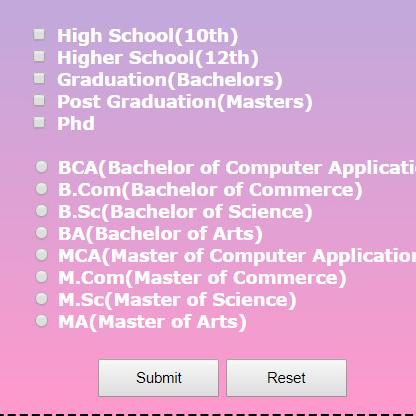button: (222, 358, 348, 402), (96, 358, 222, 399)
checkbox: (31, 92, 47, 109), (30, 115, 46, 132), (31, 49, 46, 65), (32, 27, 47, 41), (32, 70, 46, 85)
checkbox_with_label: (28, 89, 312, 113), (27, 69, 285, 92), (27, 46, 262, 69), (28, 24, 240, 47), (29, 112, 94, 134)
radio: (32, 290, 51, 307), (33, 158, 50, 176), (32, 224, 50, 241), (32, 313, 50, 330), (33, 247, 49, 263), (32, 202, 47, 219), (33, 181, 48, 197), (34, 269, 47, 286)
radio_with_label: (27, 180, 363, 201), (30, 201, 313, 223), (29, 269, 348, 288), (30, 289, 300, 311), (31, 224, 263, 245), (29, 312, 246, 332)
